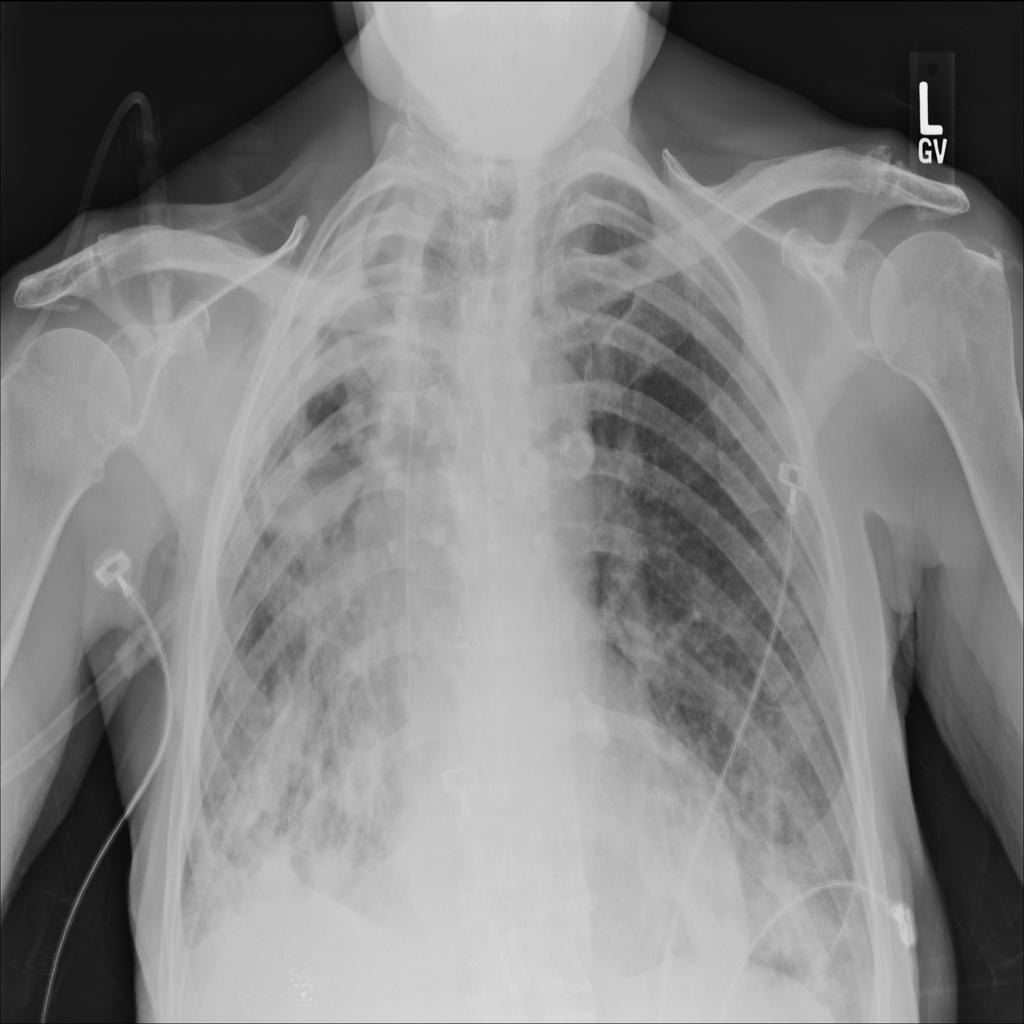nodule: (247, 434, 368, 569), (294, 832, 373, 911), (601, 411, 658, 500), (414, 497, 456, 559)
